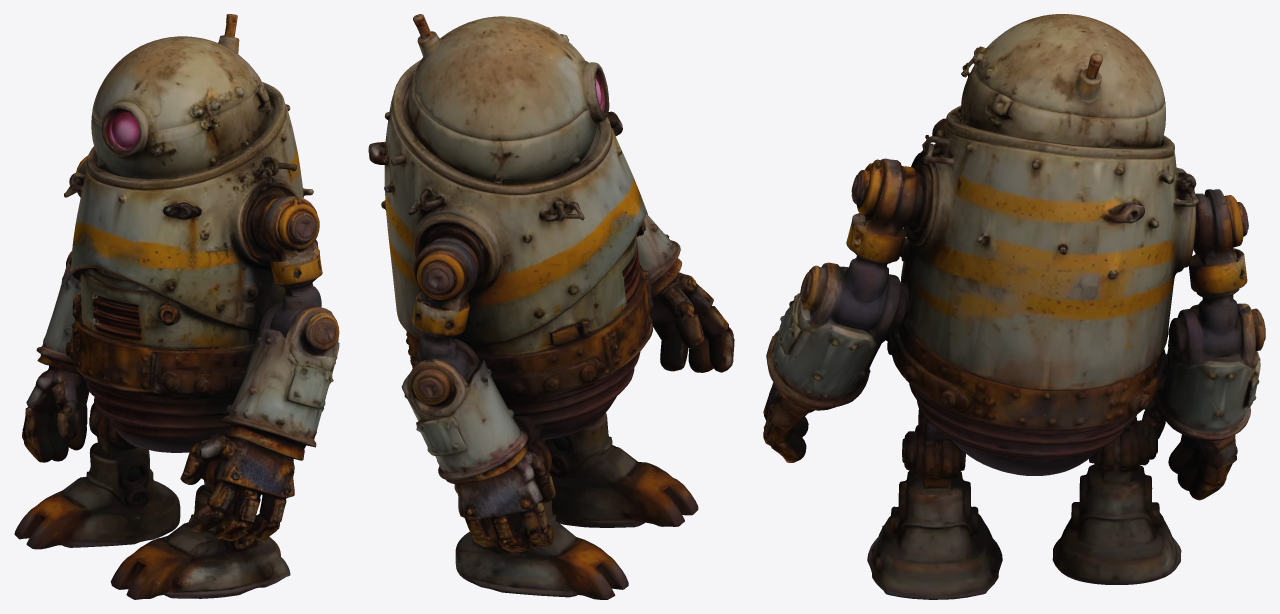
Rendered from island.glb.
3 views of the same model, side by side, from view 1: azimuth 30°, elevation 25°; view 2: azimuth 150°, elevation 25°; view 3: azimuth 270°, elevation 25° (orthographic). The views are drawn at different scales.
Visible parts, largest first — view 1: material; view 2: material; view 3: material.
Part boxes in pixels (x1,y1,x2,y2): material: (14, 14, 339, 599); material: (368, 14, 734, 599); material: (763, 14, 1265, 599).
Bounding box in the file's own units: 0.5236 × 0.9965 × 0.8093.
Materials: 1 (1 with a texture image).
